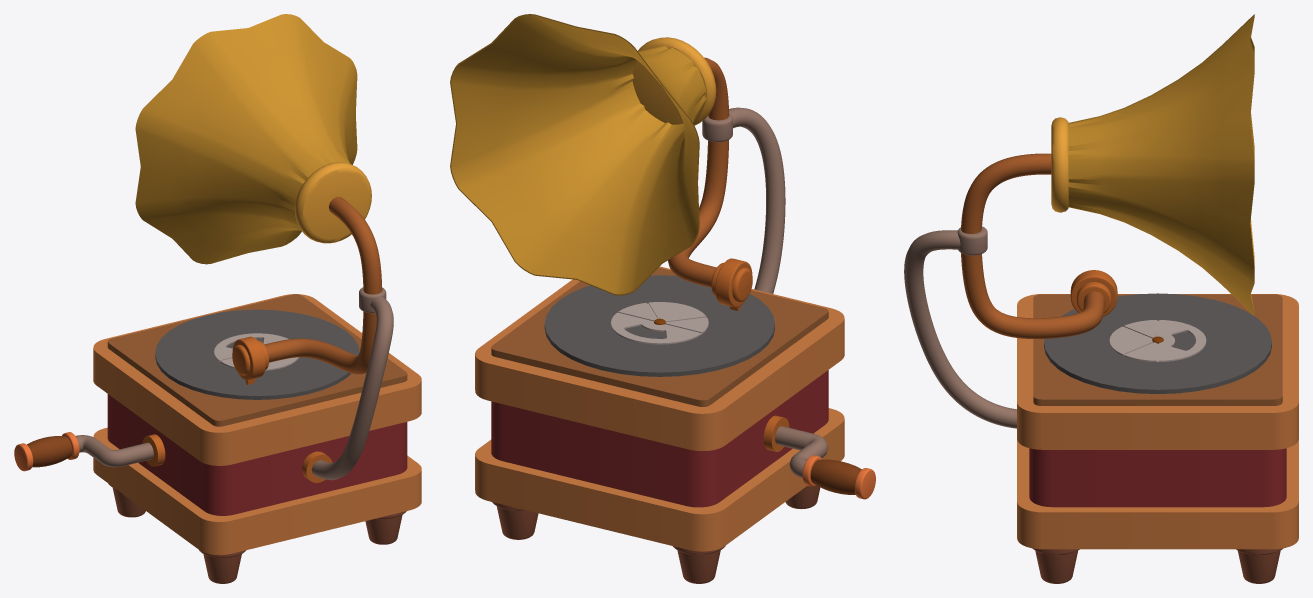
Rendered from RecordPlayer.fbx.
3 views of the same model, side by side, from view 1: azimuth 30°, elevation 25°; view 2: azimuth 150°, elevation 25°; view 3: azimuth 270°, elevation 25° (orthographic). The views are drawn at different scales.
Parts seen in each view (by area): view 1: Cylinder, Cube.001, Cube.002, Cube, Cylinder.003, NurbsPath.001, Cylinder.002, NurbsPath.002, Cylinder.008, Cylinder.007, NurbsPath, Cylinder.004 (+1 smaller); view 2: Cylinder, Cube.001, Cube, Cube.002, Cylinder.003, NurbsPath.002, NurbsPath.001, Cylinder.009, Cylinder.002, Cylinder.008, Cylinder.007, Cylinder.004 (+3 smaller); view 3: Cylinder, Cube.001, Cube, Cylinder.003, Cube.002, NurbsPath.001, NurbsPath.002, Cylinder.009, Cylinder.008, Cylinder.002, Cylinder.004, Cylinder.005.
Part boxes in pixels (<box>): Cylinder: <box>135,14,357,264</box>; Cube.001: <box>93,294,421,465</box>; Cube.002: <box>93,427,421,555</box>; Cube: <box>107,394,407,515</box>; Cylinder.003: <box>155,309,359,399</box>; NurbsPath.001: <box>264,196,382,374</box>; Cylinder.002: <box>295,162,371,243</box>; NurbsPath.002: <box>311,296,393,480</box>; Cylinder.008: <box>108,483,406,583</box>; Cylinder.007: <box>14,432,79,471</box>; NurbsPath: <box>75,435,153,467</box>; Cylinder.004: <box>232,336,268,384</box>; Cylinder: <box>450,14,706,295</box>; Cube.001: <box>475,266,844,451</box>; Cube: <box>491,370,828,507</box>; Cube.002: <box>475,408,844,551</box>; Cylinder.003: <box>544,275,774,376</box>; NurbsPath.002: <box>729,107,785,293</box>; NurbsPath.001: <box>668,57,729,287</box>; Cylinder.009: <box>611,302,708,344</box>; Cylinder.002: <box>632,37,716,125</box>; Cylinder.008: <box>492,485,820,583</box>; Cylinder.007: <box>802,455,875,499</box>; Cylinder.004: <box>711,258,752,310</box>; Cylinder: <box>1068,14,1254,315</box>; Cube.001: <box>1017,294,1298,449</box>; Cube: <box>1029,448,1286,507</box>; Cylinder.003: <box>1044,293,1271,393</box>; Cube.002: <box>1017,439,1298,549</box>; NurbsPath.001: <box>961,153,1104,338</box>; NurbsPath.002: <box>904,230,1016,428</box>; Cylinder.009: <box>1109,320,1206,361</box>; Cylinder.008: <box>1032,548,1283,583</box>; Cylinder.002: <box>1051,117,1068,212</box>; Cylinder.004: <box>1070,270,1117,316</box>; Cylinder.005: <box>957,226,987,255</box>.
Bounding box in the file's own units: 521 × 651 × 451.
